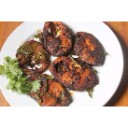seerfish: (47, 54, 99, 92), (22, 70, 74, 107), (74, 29, 106, 66), (17, 39, 48, 75), (43, 20, 73, 56)
